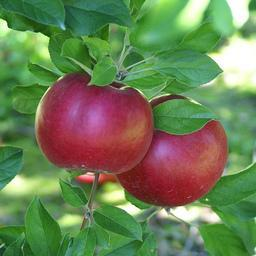apple: (114, 93, 229, 206), (35, 71, 156, 174)
